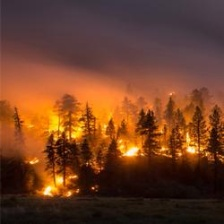fire: (22, 102, 224, 202)
